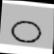no answer: (8, 17, 43, 45)
